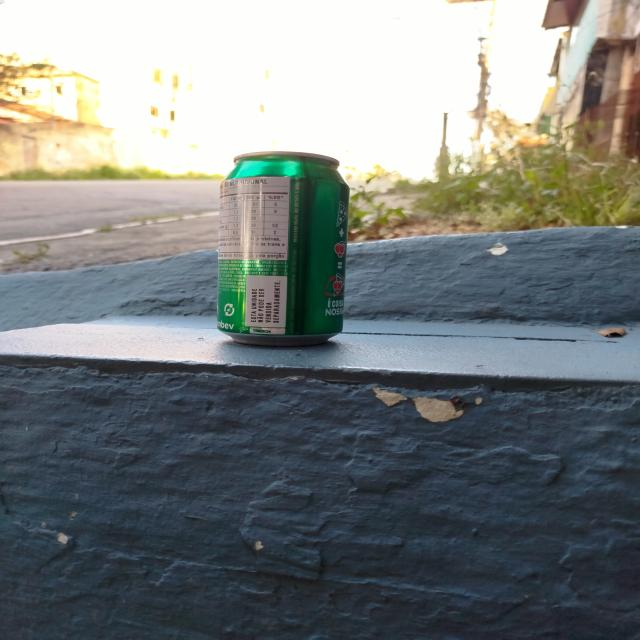Guarana: (218, 152, 350, 342)
